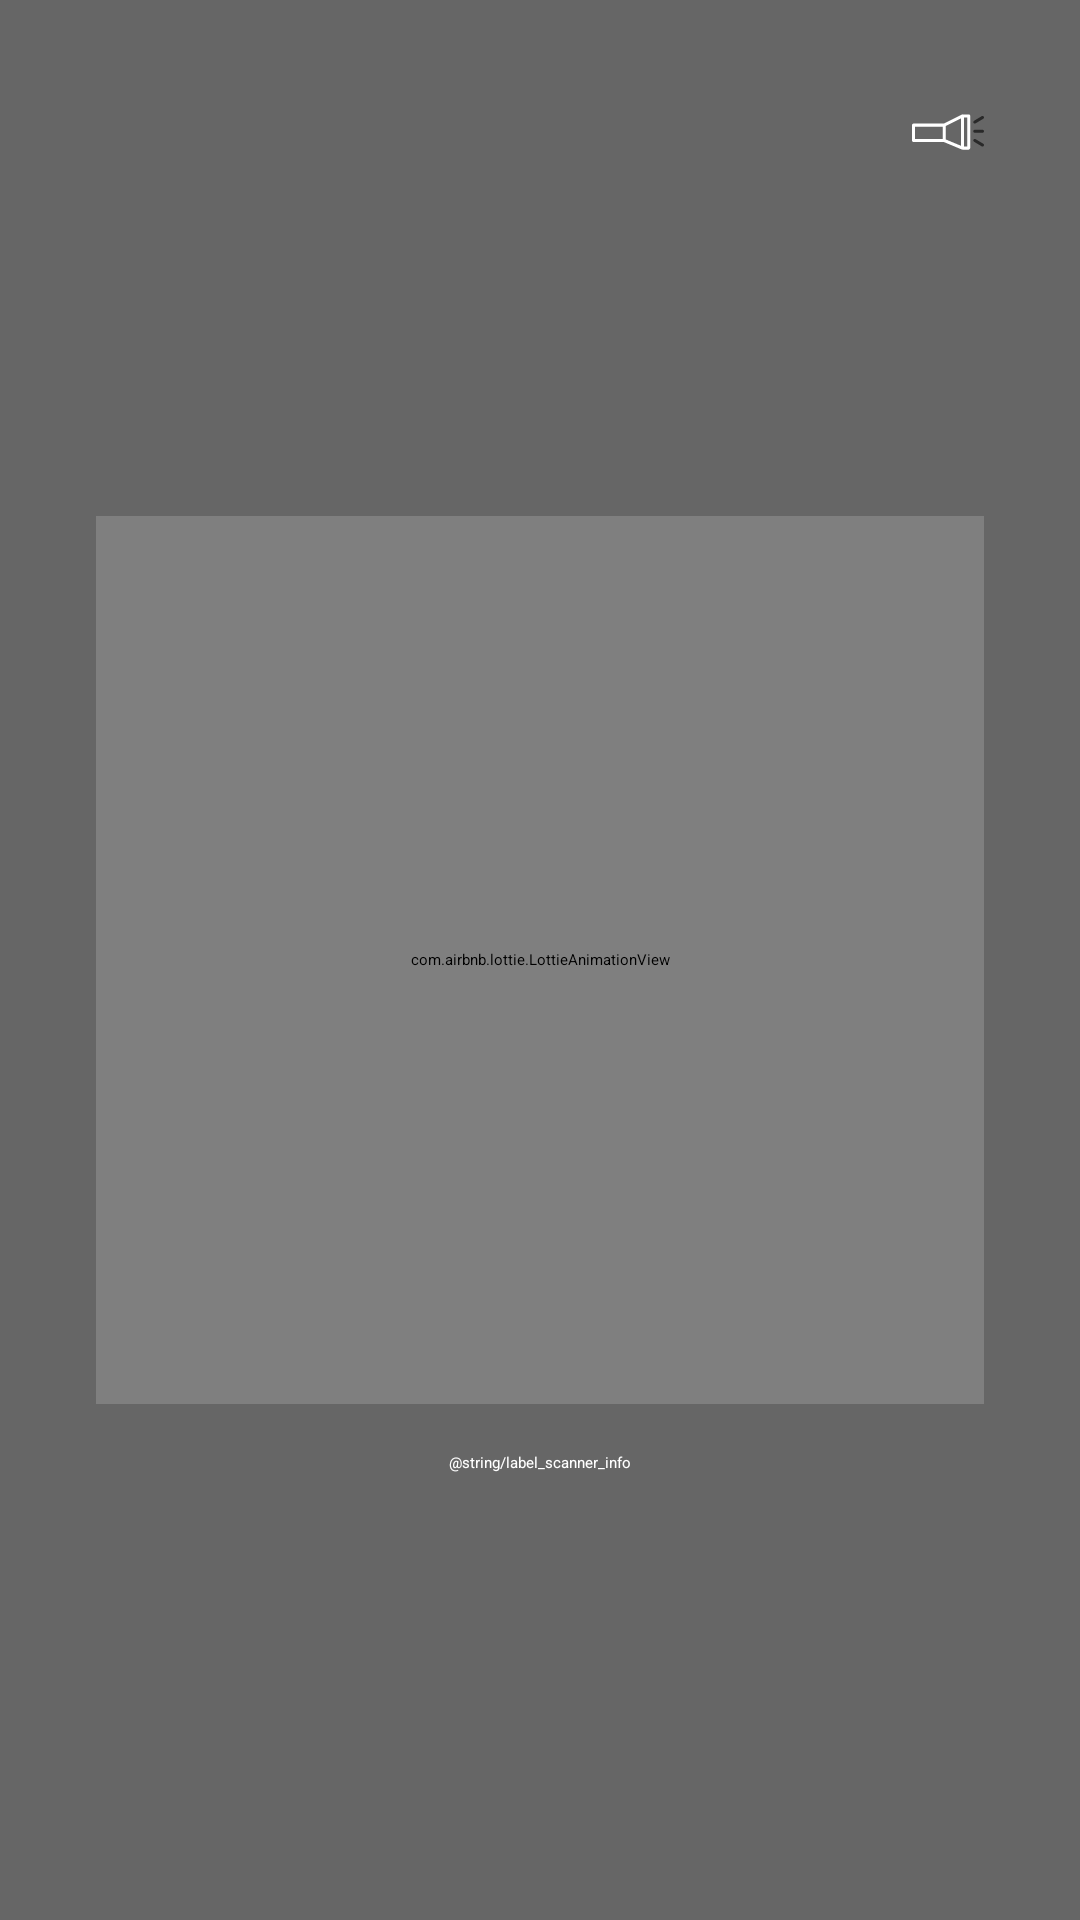

Named icons in this screenshot (1080×1920) and their bounding boxes, box=[x1, y1, x2, y2]:
flash off: box=[912, 114, 984, 150]
